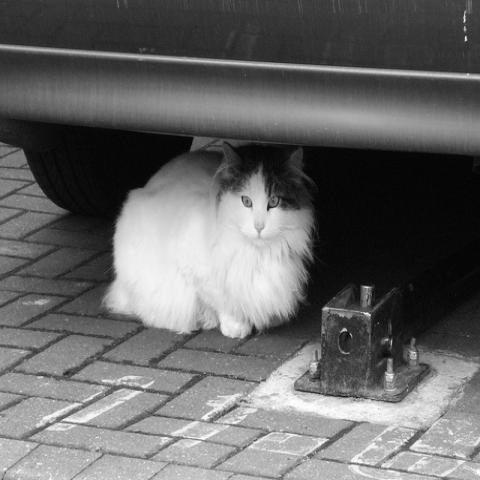car: (0, 0, 479, 223)
